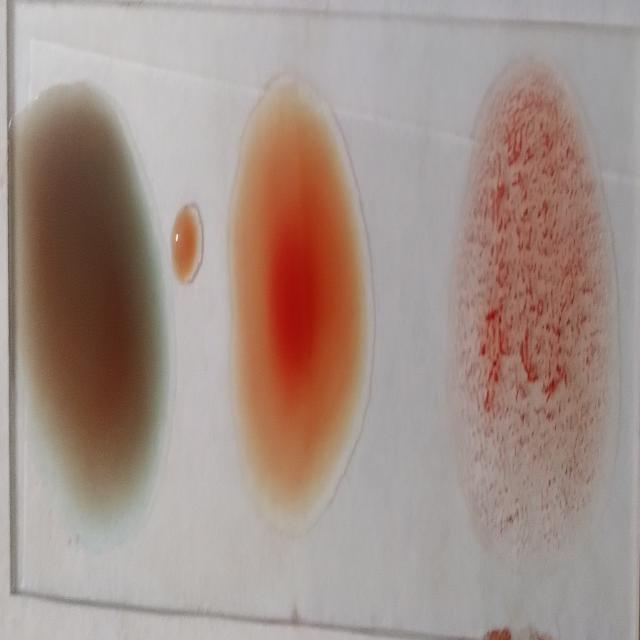D: (445, 79, 617, 572)
